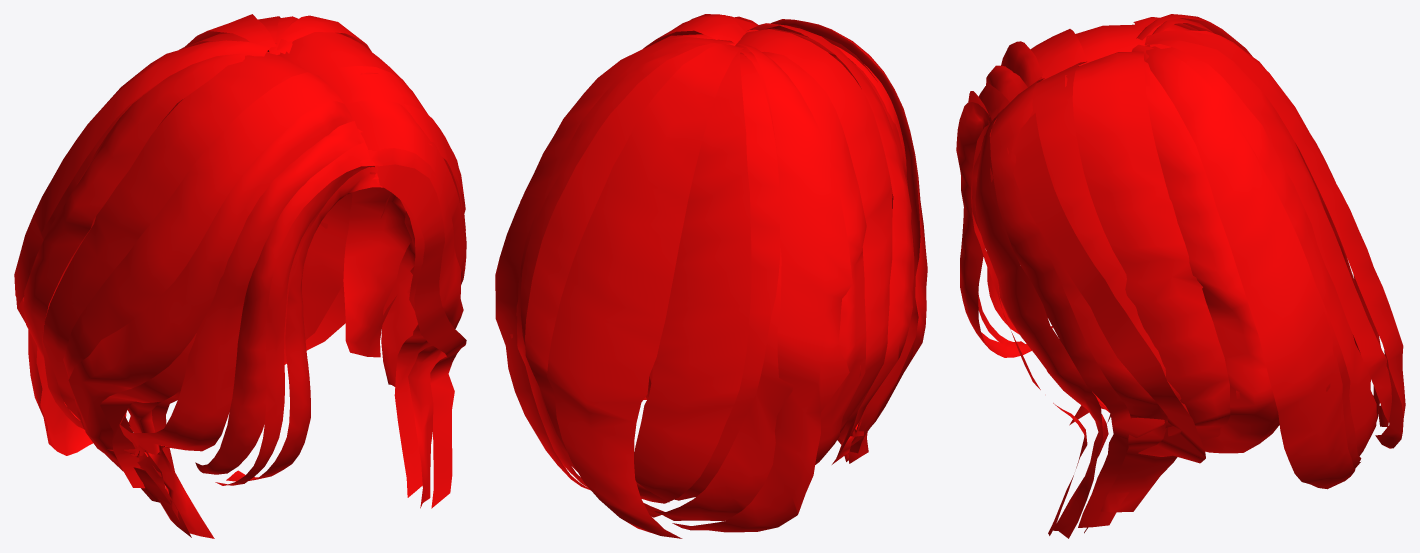
File: elvs_short_daisy_hair_M.glb
3 views of the same model, side by side, from view 1: azimuth 30°, elevation 25°; view 2: azimuth 150°, elevation 25°; view 3: azimuth 270°, elevation 25° (orthographic). The views are drawn at different scales.
Size of the model in its own units: 0.2876 by 0.3165 by 0.2873.
1 material, 1 textured.
